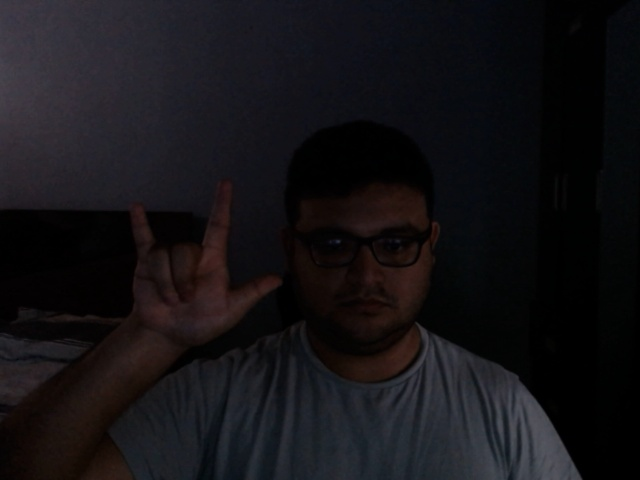I love you: (124, 175, 284, 359)
